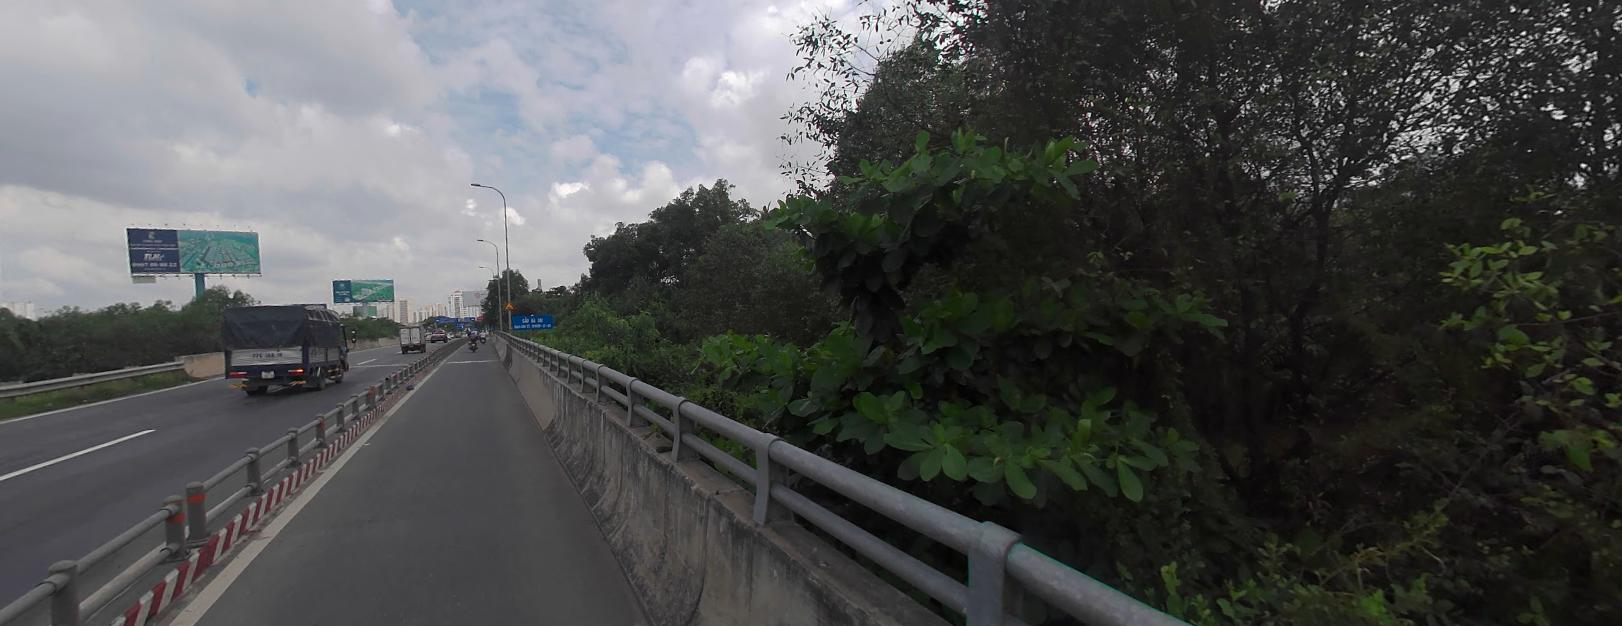Nguy hiem: (504, 300, 514, 308)
